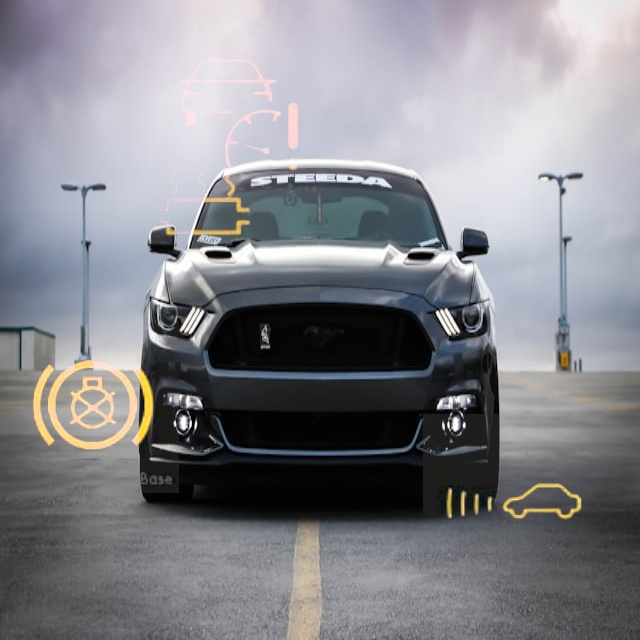symbol: (423, 414, 603, 594), (115, 110, 293, 288), (6, 320, 179, 493), (154, 33, 321, 200)
